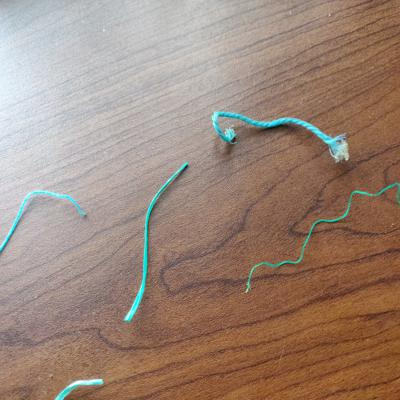thread: (242, 180, 400, 297), (117, 158, 192, 325), (210, 104, 357, 167), (1, 186, 89, 256), (54, 375, 108, 400)
